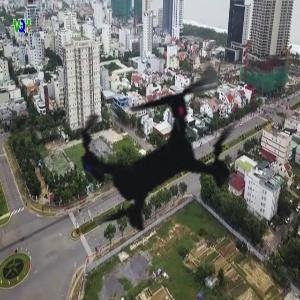drone: (13, 9, 299, 295)
